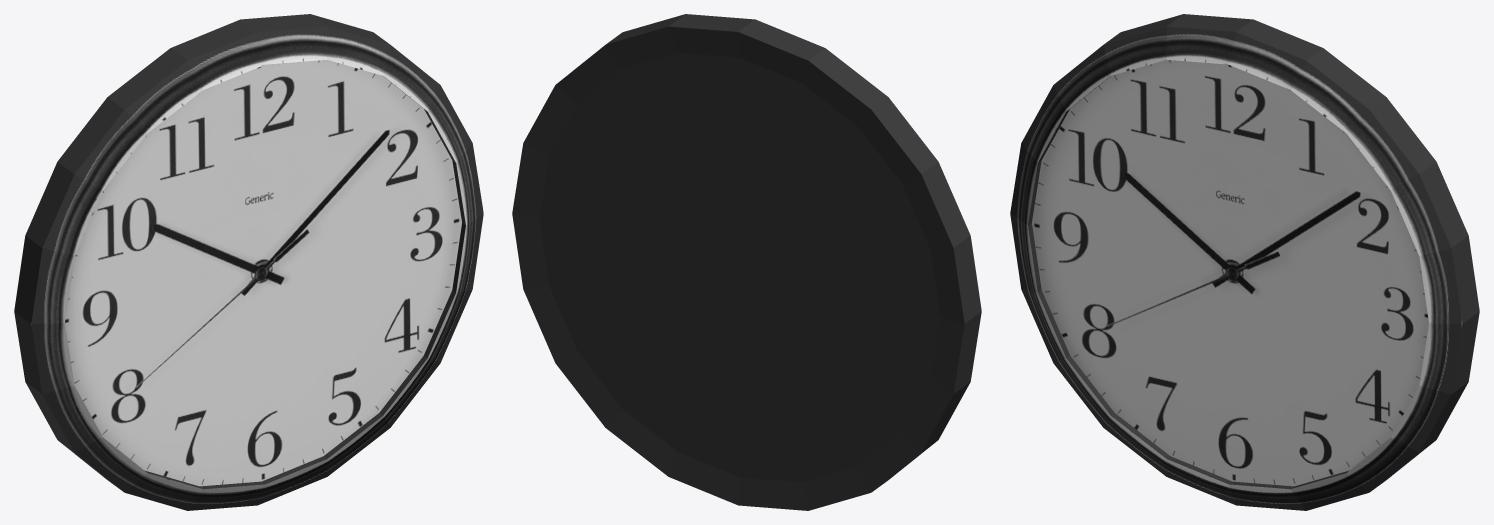
File: Office_Clock_Analog_1.fbx
The picture shows the model from 3 angles, left to right: view 1: azimuth 30°, elevation 25°; view 2: azimuth 150°, elevation 25°; view 3: azimuth 330°, elevation 25°; orthographic projection.
Parts seen in each view (by area): view 1: Office_Clock_Analog_1; view 2: Office_Clock_Analog_1; view 3: Office_Clock_Analog_1.
Part boxes in pixels (x1,y1,x2,y2): Office_Clock_Analog_1: (14,14,483,510); Office_Clock_Analog_1: (512,14,981,510); Office_Clock_Analog_1: (1010,14,1479,510).
Size of the model in its own units: 38.42 by 38.42 by 3.68.
